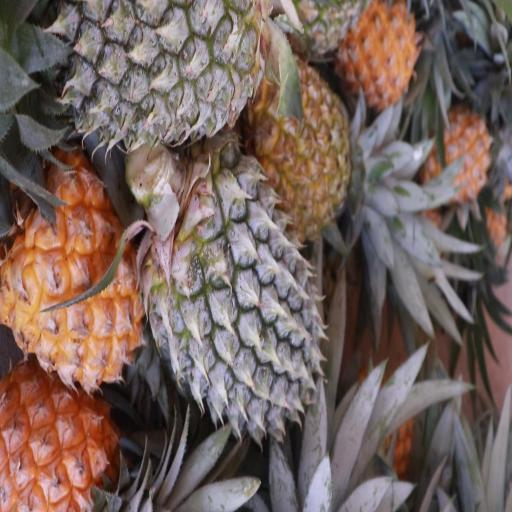------------------------------: (259, 59, 351, 226)
Pineapple - v8 v1: (4, 166, 130, 380), (0, 377, 131, 512), (342, 0, 419, 103), (420, 108, 491, 204)
